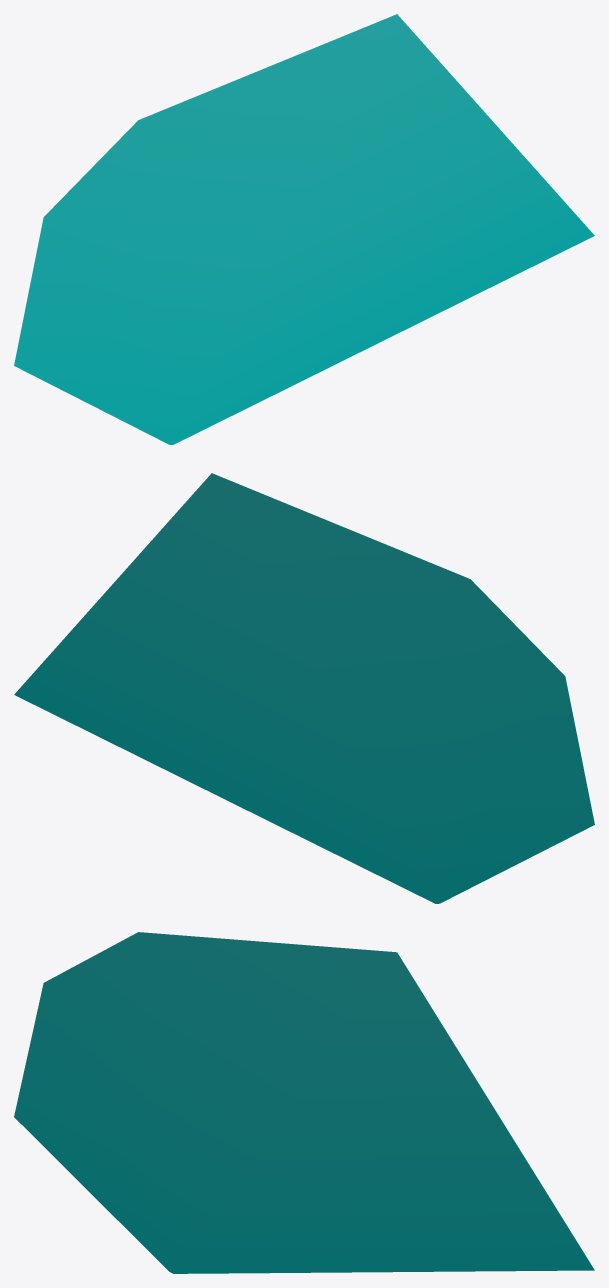
File: Ribbon_Grass_tbdpec3r_High_tbdpec3r_VarF_LOD2.glb
3 renders of one model, top to bottom at view 1: azimuth 30°, elevation 25°; view 2: azimuth 150°, elevation 25°; view 3: azimuth 330°, elevation 25°, orthographic.
Parts seen in each view (by area): view 1: _3b42_VarF_LOD3; view 2: _3b42_VarF_LOD3; view 3: _3b42_VarF_LOD3.
Part boxes in pixels (x1,y1,x2,y2): _3b42_VarF_LOD3: (14, 14, 594, 444); _3b42_VarF_LOD3: (14, 473, 594, 903); _3b42_VarF_LOD3: (14, 932, 594, 1273).
Bounding box in the file's own units: 0.3107 × 0.1923 × 2.58e-08.
